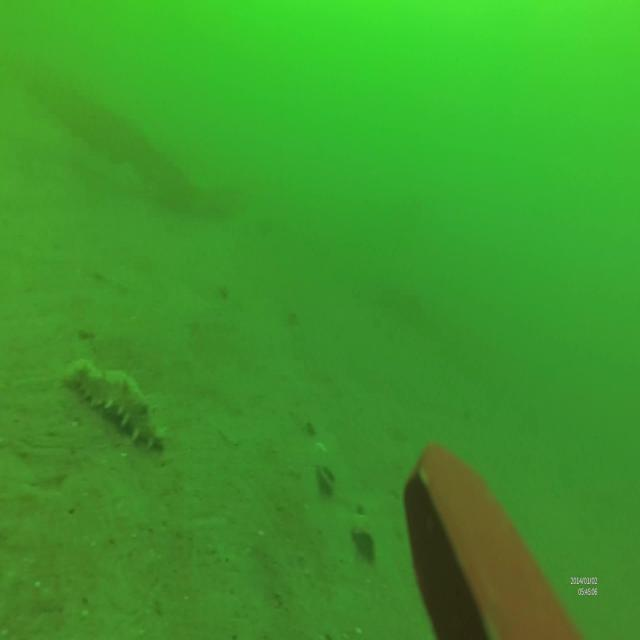holothurian: (64, 361, 163, 447)
